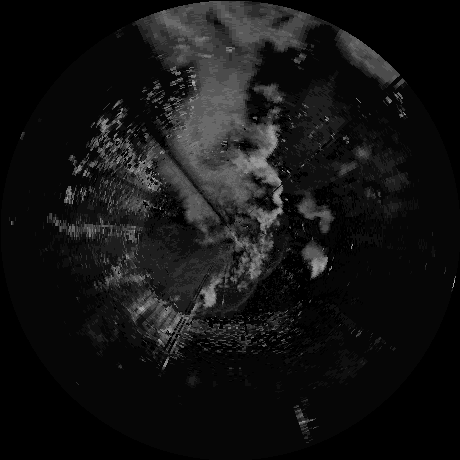frontgust: (214, 283, 256, 311), (257, 255, 282, 279)
